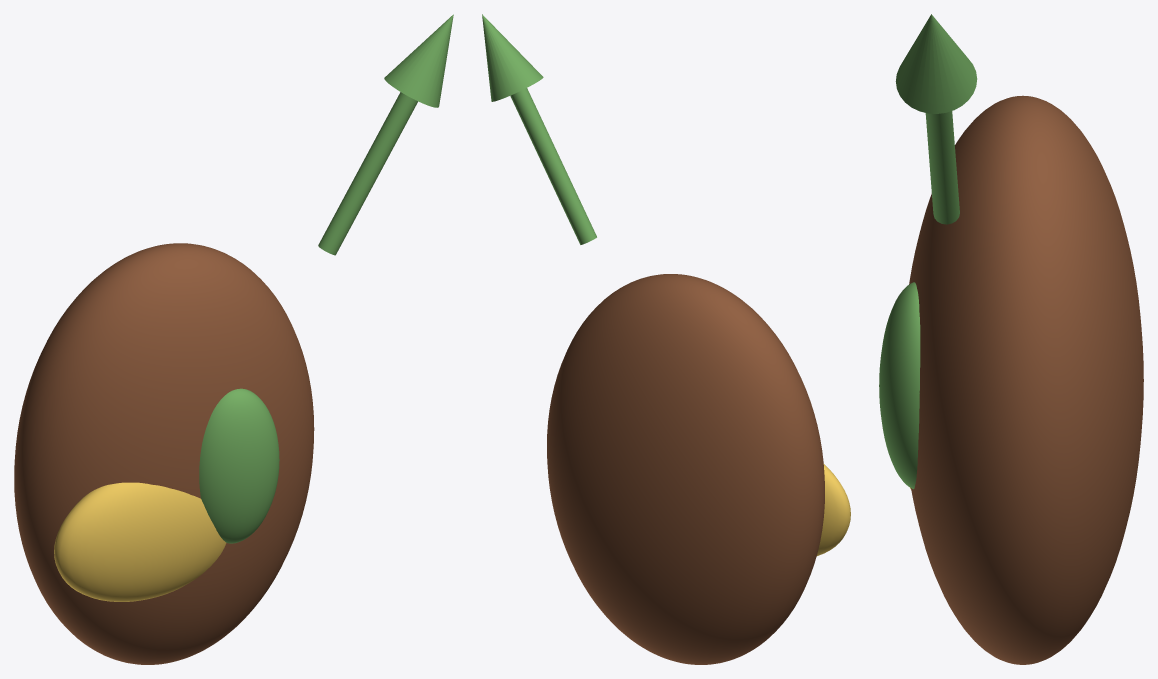
The model's file is bio-p1-seed.glb.
3 views of the same model, side by side, from view 1: azimuth 30°, elevation 25°; view 2: azimuth 150°, elevation 25°; view 3: azimuth 270°, elevation 25° (orthographic). The views are drawn at different scales.
Parts seen in each view (by area): view 1: seed-coat-shell, stored-food-cotyledon, embryo-plant-inside, sprout-growth-arrow-shaft, sprout-growth-arrow-head; view 2: seed-coat-shell, sprout-growth-arrow-shaft, sprout-growth-arrow-head, stored-food-cotyledon; view 3: seed-coat-shell, embryo-plant-inside, sprout-growth-arrow-head, sprout-growth-arrow-shaft.
Boxes of the visible parts, left/top/right/bottom form: seed-coat-shell: left=14, top=243, right=314, bottom=664; stored-food-cotyledon: left=54, top=482, right=226, bottom=601; embryo-plant-inside: left=199, top=388, right=279, bottom=543; sprout-growth-arrow-shaft: left=318, top=92, right=417, bottom=255; sprout-growth-arrow-head: left=384, top=14, right=453, bottom=107; seed-coat-shell: left=547, top=274, right=824, bottom=664; sprout-growth-arrow-shaft: left=510, top=88, right=596, bottom=244; sprout-growth-arrow-head: left=482, top=14, right=543, bottom=101; stored-food-cotyledon: left=817, top=464, right=850, bottom=555; seed-coat-shell: left=909, top=95, right=1143, bottom=664; embryo-plant-inside: left=879, top=282, right=920, bottom=489; sprout-growth-arrow-head: left=895, top=14, right=977, bottom=113; sprout-growth-arrow-shaft: left=925, top=111, right=959, bottom=224.
Size of what is drawn, in the model's own units: 0.8135 by 1.19 by 0.3572.
